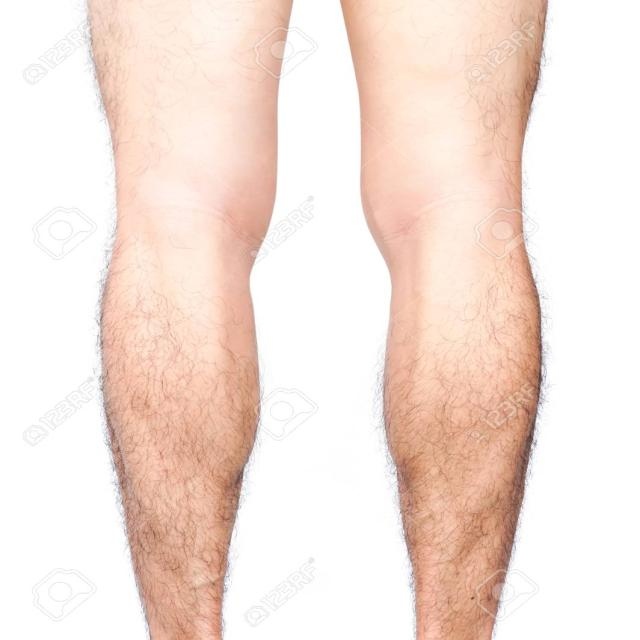Normal: (74, 207, 564, 620)
